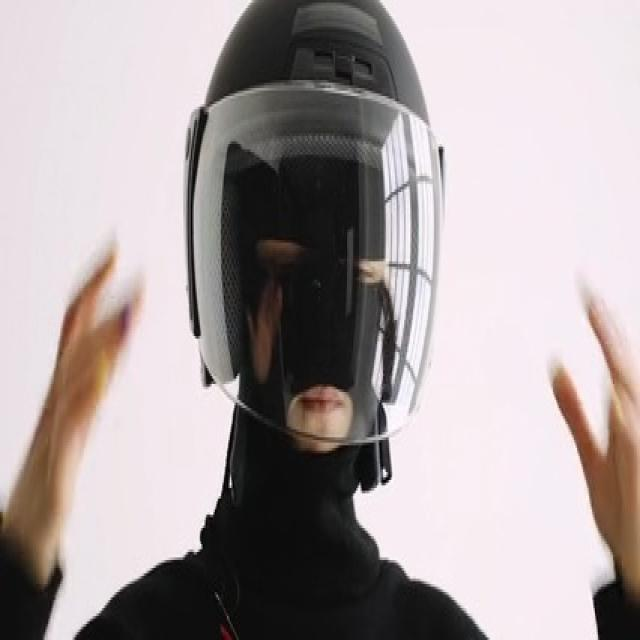Helmet_Wearer: (171, 0, 458, 610)
Person: (8, 0, 640, 640)
